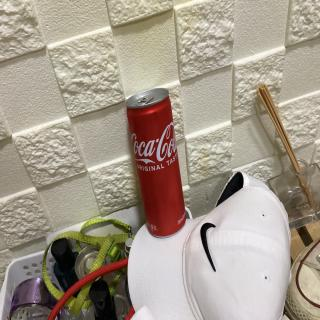cocacola: (122, 80, 192, 239)
